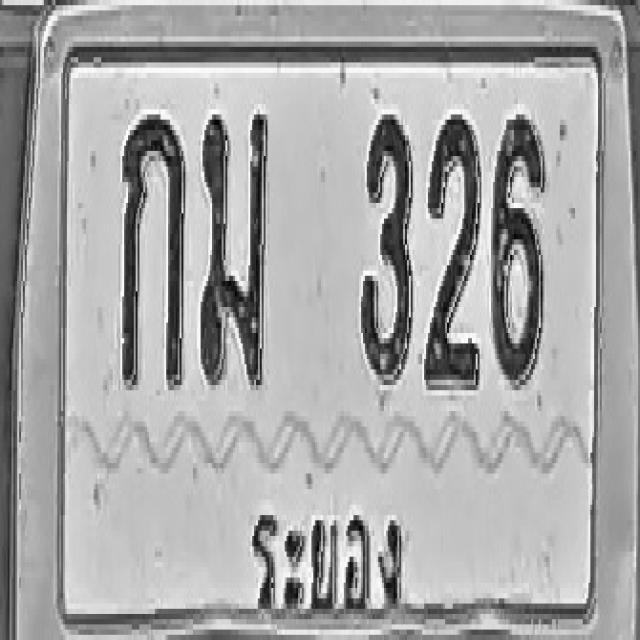10GorGai: (120, 110, 186, 390)
2: (424, 112, 480, 388)
3: (359, 109, 413, 385)
42MorMa: (198, 106, 268, 388)
6: (491, 112, 544, 388)
Rayong: (242, 478, 416, 624)
